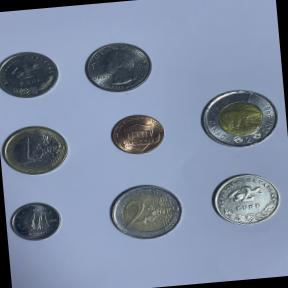coin: (194, 84, 284, 153), (104, 179, 189, 244), (206, 168, 286, 231), (79, 38, 157, 97), (0, 121, 73, 179), (105, 110, 171, 158), (6, 198, 67, 245)
